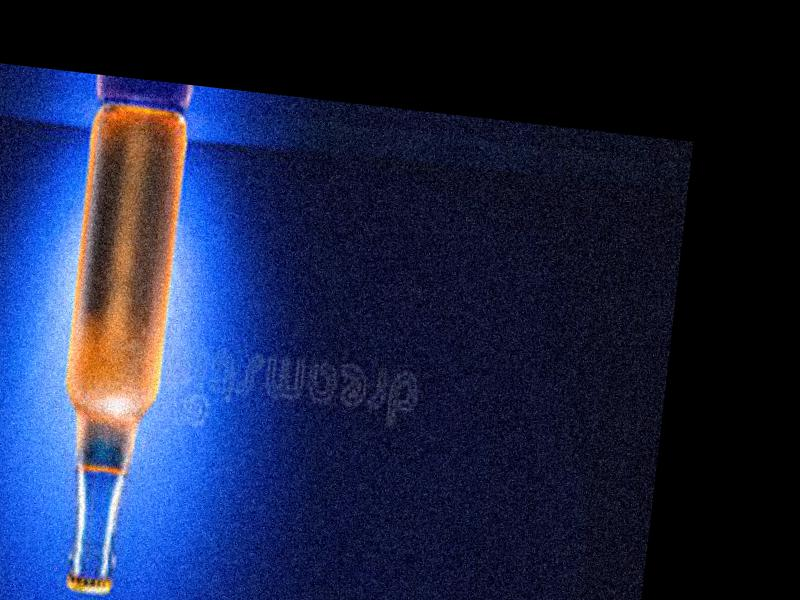Beer: (35, 102, 192, 598)
